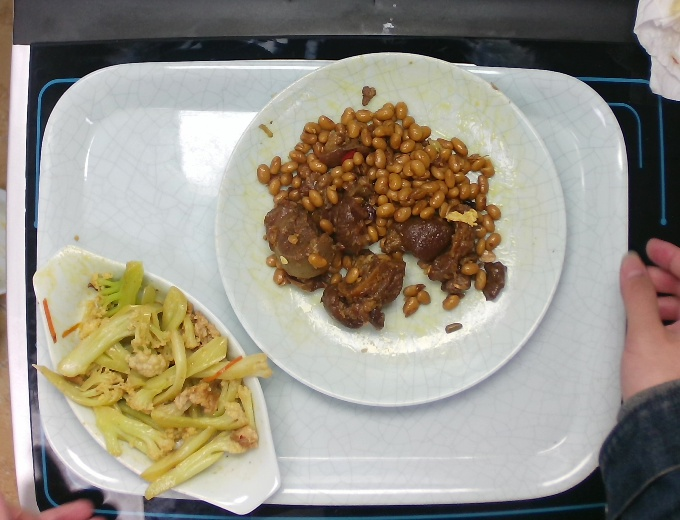JYsf-Da_Yuan_Pan: (209, 47, 571, 410)
JYsf-Yu_Pan: (30, 248, 290, 515)
